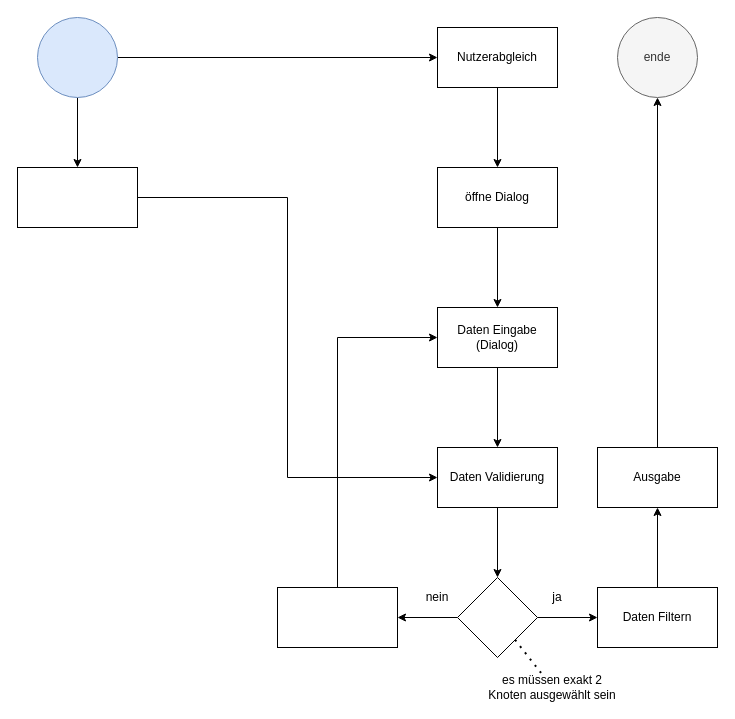
The diagram is 735 pixels wide and 719 high, and some of its shapes have lost their labels. The centre of each missing label's shape, as x and y in pixels:
Fehlermeldung: [337,617]
Knoten Auswahl im Baum: [77,197]
start: [77,57]
